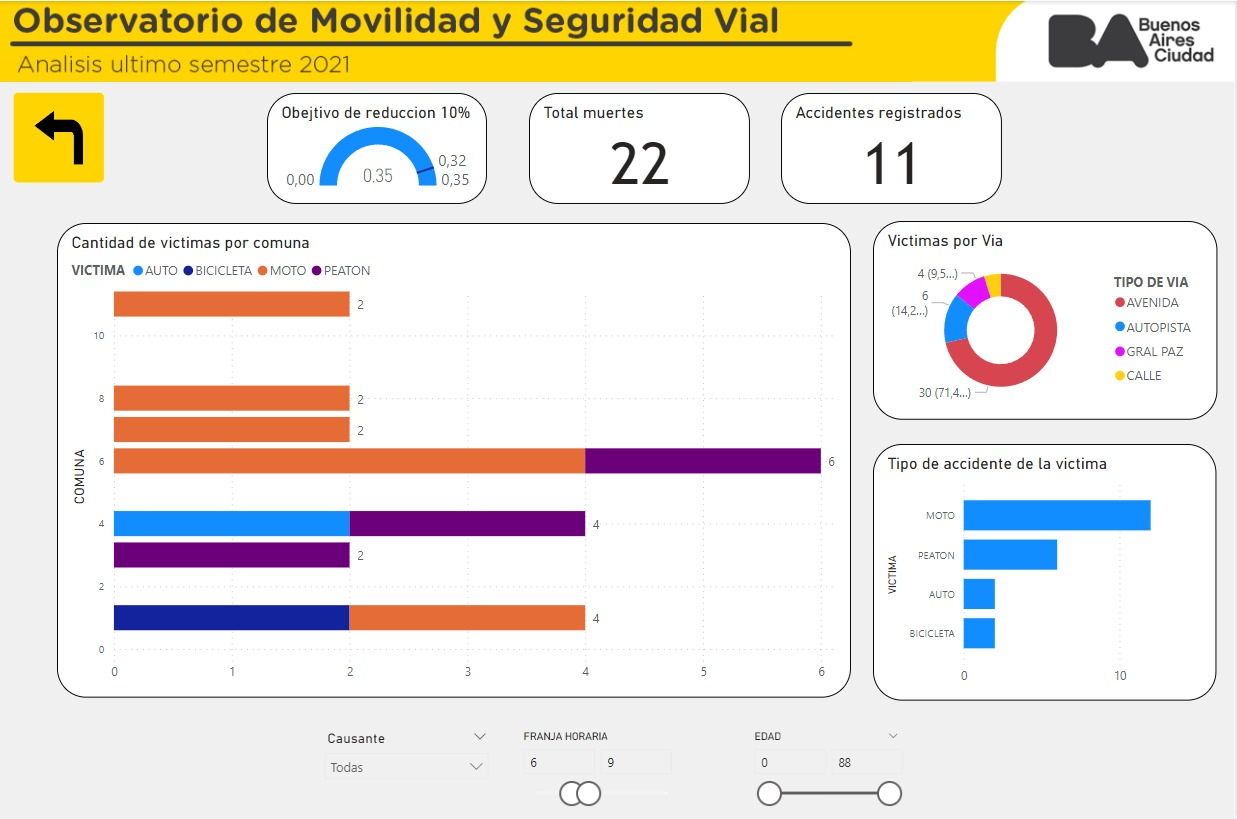

Layout of this report page (visuals, bound fields, positions):
{"tool":"powerbi","page":{"name":"Informe Homicidios","canvas":[1280,720],"ordinal":1},"visuals":[{"type":"image","box":[0,90,120,104.4],"z":0},{"type":"actionButton","title":"Borrar Segmentaciones","box":[1036.7,123.4,243.3,36.7],"z":1000},{"type":"card","title":"Total muertes","fields":{"Values":["Sum(HECHOS N.CANTIDAD VICTIMAS)"]},"box":[527.8,93.3,228.9,101.1],"z":2000},{"type":"card","title":"Accidentes registrados","fields":{"Values":["CountNonNull(HECHOS N.ID_hecho)"]},"box":[788.9,93.3,228.9,101.1],"z":3000},{"type":"kpi","title":"Reducción del 10% la Tasa de Víctimas del Último Semestre","fields":{"Indicator":["Medidas.TasaVictimasUltimoSemestre"],"Goal":["Medidas.ObjetivoVictimasSemestre"],"TrendLine":["HECHOS N.FECHA.Variación.Jerarquía de fechas.Año"]},"box":[271.1,93.3,228.9,101.1],"z":4000},{"type":"donutChart","title":"Victimas por Via","fields":{"Category":["HECHOS N.TIPO DE VIA"],"Y":["Sum(HECHOS N.CANTIDAD VICTIMAS)"]},"box":[905.4,207.8,356.7,205.6],"z":5000},{"type":"slicer","fields":{"Values":["HECHOS N.FRANJA HORARIA"]},"box":[13.3,581,243.3,118.9],"z":6000},{"type":"columnChart","title":"Tipo de accidente de la victima","fields":{"Y":["CountNonNull(HECHOS N.TIPO DE VIA)"],"Category":["HECHOS N.VICTIMA"],"Series":["HECHOS N.VICTIMA"]},"box":[905.4,433.3,356.7,266.7],"z":7000},{"type":"slicer","fields":{"Values":["HECHOS N.ACUSADO"]},"box":[13.3,338.9,243.3,225.6],"z":8000},{"type":"barChart","fields":{"Category":["HECHOS N.COMUNA","HECHOS N.TIPO DE VIA"],"Y":["Sum(HECHOS N.CANTIDAD VICTIMAS)"],"Series":["HECHOS N.VICTIMA"]},"box":[271.1,207.8,608.9,492.2],"z":9000},{"type":"slicer","fields":{"Values":["VICTIMAS N.EDAD"]},"box":[13.3,205.6,243.3,118.9],"z":10000}]}

Visuals, with their boxes on the page's 1280x720 design canvas (x1, y1, x2, y2). These are canvas units, not pixel positions in the 1237x819 screenshot, which may show the page scaled, cropped or inside an application window:
image: x1=0 y1=90 x2=120 y2=194
"Borrar Segmentaciones" actionButton: x1=1037 y1=123 x2=1280 y2=160
"Total muertes" card: x1=528 y1=93 x2=757 y2=194
"Accidentes registrados" card: x1=789 y1=93 x2=1018 y2=194
"Reducción del 10% la Tasa de Víctimas del Último Semestre" kpi: x1=271 y1=93 x2=500 y2=194
"Victimas por Via" donutChart: x1=905 y1=208 x2=1262 y2=413
slicer - HECHOS N.FRANJA HORARIA: x1=13 y1=581 x2=257 y2=700
"Tipo de accidente de la victima" columnChart: x1=905 y1=433 x2=1262 y2=700
slicer - HECHOS N.ACUSADO: x1=13 y1=339 x2=257 y2=564
barChart - HECHOS N.COMUNA x HECHOS N.TIPO DE VIA: x1=271 y1=208 x2=880 y2=700
slicer - VICTIMAS N.EDAD: x1=13 y1=206 x2=257 y2=324
